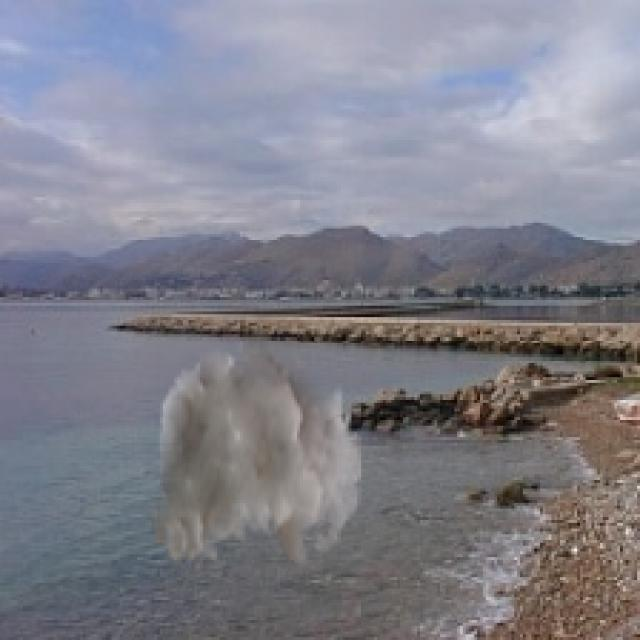Smoke: (148, 320, 363, 574)
